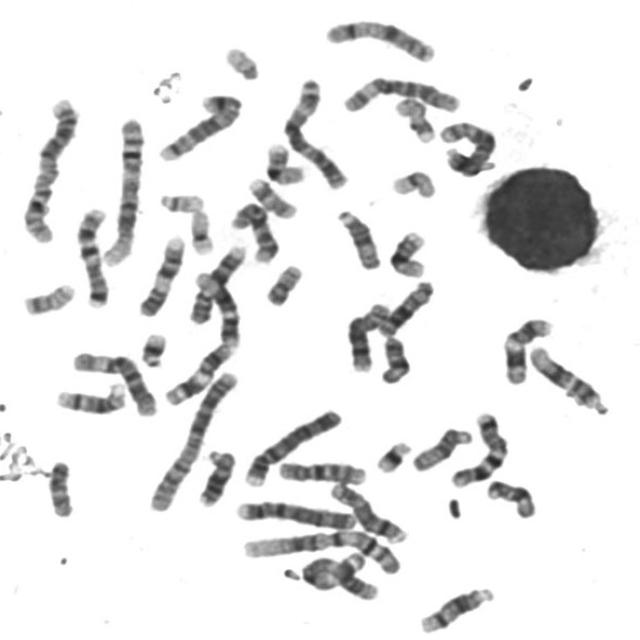A1: (237, 524, 406, 576), (96, 113, 147, 270)
A2: (144, 366, 242, 514), (16, 94, 81, 244)
A3: (277, 73, 351, 190), (286, 548, 387, 605)
B4: (238, 404, 344, 489), (231, 495, 359, 532)
B5: (153, 89, 246, 163), (435, 117, 499, 176)
C10: (226, 198, 280, 265), (274, 456, 369, 486)
C11: (159, 338, 236, 408), (499, 313, 557, 387)
C12: (524, 341, 610, 415), (189, 266, 243, 348)
C6: (68, 346, 160, 418), (338, 72, 464, 115)
C7: (444, 408, 512, 490), (71, 202, 112, 310)
C8: (325, 478, 409, 545), (342, 297, 393, 374)
C9: (184, 240, 250, 324), (134, 230, 188, 318)
D13: (374, 275, 437, 339), (193, 445, 239, 508)
D14: (414, 582, 498, 636), (51, 378, 128, 416)
D15: (332, 204, 384, 272), (407, 424, 475, 474)
E16: (384, 227, 430, 280), (260, 138, 308, 187)
E17: (243, 172, 299, 221), (391, 93, 437, 144)
E18: (42, 455, 77, 520), (376, 332, 412, 386)
F19: (184, 204, 217, 256), (386, 167, 438, 200)
F20: (18, 278, 78, 318), (260, 259, 306, 308)
G21: (372, 436, 414, 474), (136, 328, 169, 368)
G22: (219, 41, 263, 81), (153, 187, 207, 214)
X: (321, 15, 438, 64)
